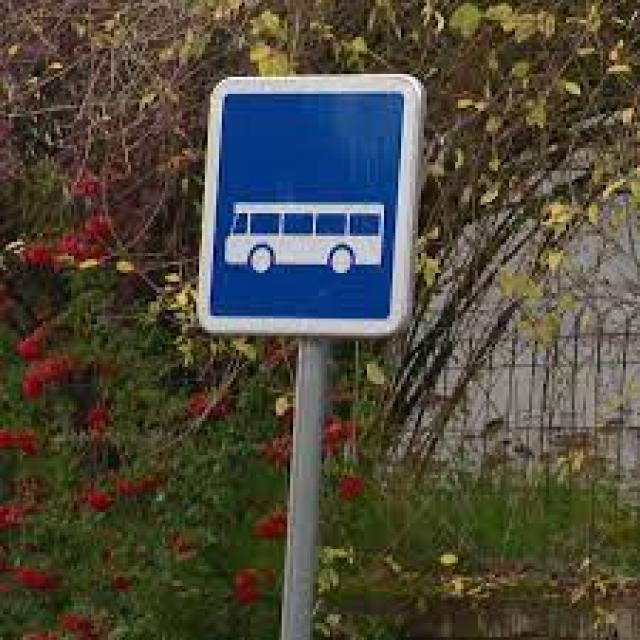ArretBus: (205, 79, 410, 336)
